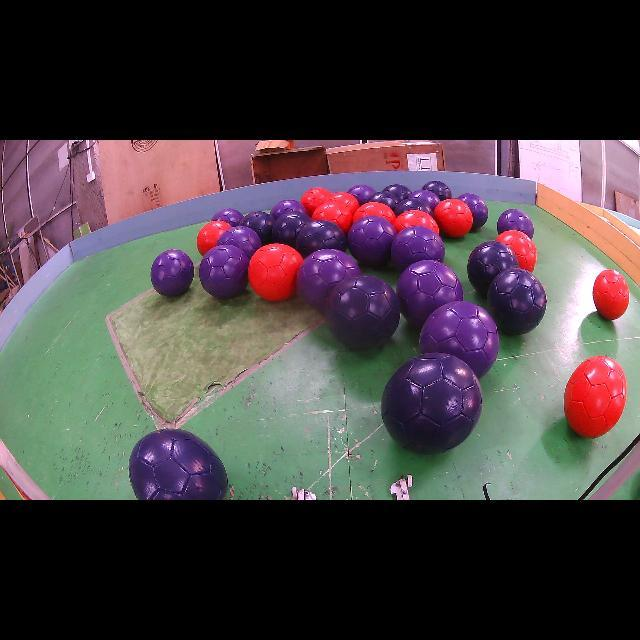B: (380, 352, 482, 454), (129, 429, 228, 500), (325, 275, 400, 349), (488, 268, 546, 335), (468, 241, 519, 296), (295, 220, 346, 258), (271, 211, 311, 248), (240, 211, 275, 245), (394, 199, 432, 216), (422, 180, 451, 201), (369, 191, 399, 210), (384, 184, 411, 201)
P: (420, 301, 499, 377), (396, 260, 464, 328), (296, 249, 360, 310), (199, 245, 249, 299), (391, 225, 445, 272), (348, 216, 396, 266), (151, 250, 194, 296), (216, 226, 261, 259), (498, 209, 534, 239), (458, 194, 489, 228), (270, 200, 308, 220), (409, 190, 440, 211), (348, 184, 376, 205), (211, 209, 244, 226)
R: (564, 356, 628, 438), (249, 244, 304, 301), (592, 269, 629, 320), (496, 230, 536, 272), (434, 199, 472, 238), (311, 200, 352, 234), (196, 220, 231, 255), (392, 210, 440, 234), (352, 202, 396, 224), (300, 188, 331, 216), (326, 192, 360, 215)
